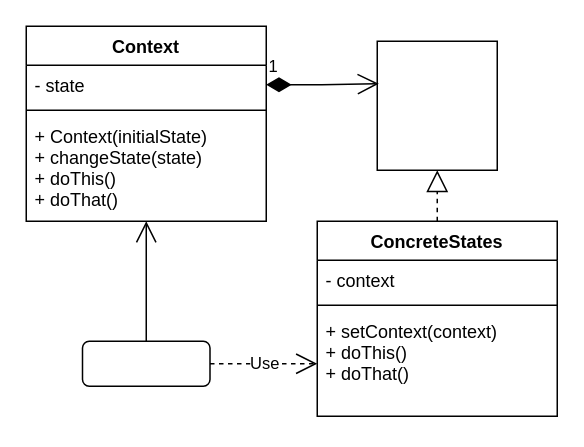
Image size: 584x447. Some labels were removed from this diagram. Each missing label, with the centre of its shape:
"<<Interface>> State + doThis() + doThat()" goes at pixel 436 105.
"Client" goes at pixel 145 363.
